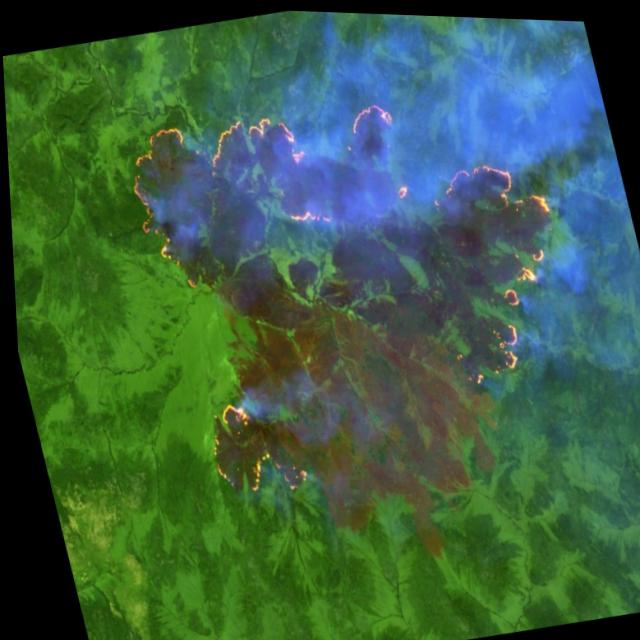fire: (109, 48, 616, 521)
